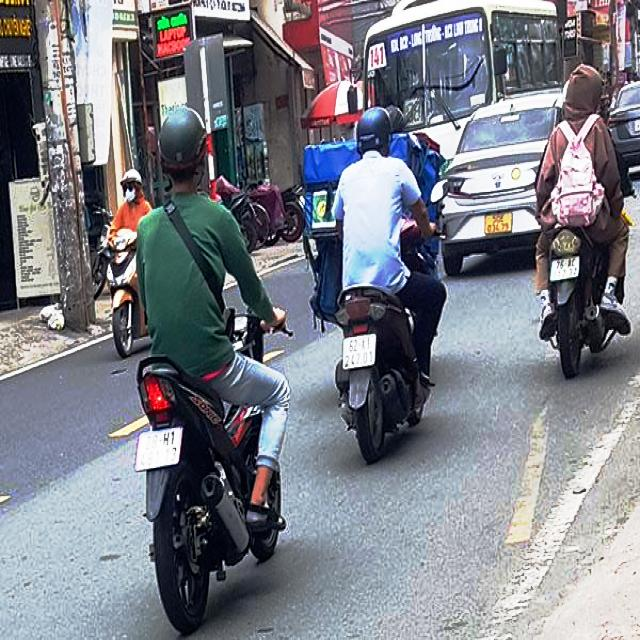license_plate: (137, 427, 182, 472), (343, 334, 377, 370), (551, 257, 580, 282), (485, 212, 512, 236)
